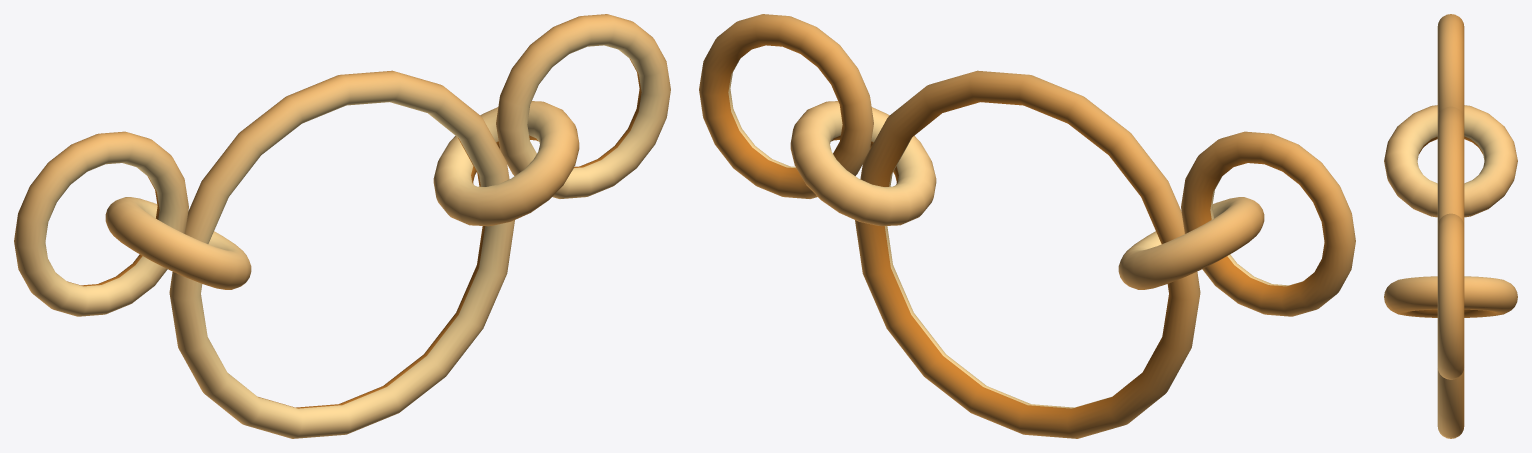
File: hashigo_n_c.fbx
3 views of the same model, side by side, from view 1: azimuth 30°, elevation 25°; view 2: azimuth 150°, elevation 25°; view 3: azimuth 270°, elevation 25° (orthographic). The views are drawn at different scales.
Parts seen in each view (by area): view 1: d1; view 2: d1; view 3: d1.
Part boxes in pixels (x1,y1,x2,y2): d1: (14,14,670,438); d1: (699,14,1355,438); d1: (1384,14,1517,438).
Size of the model in its own units: 19.09 by 10 by 4.
